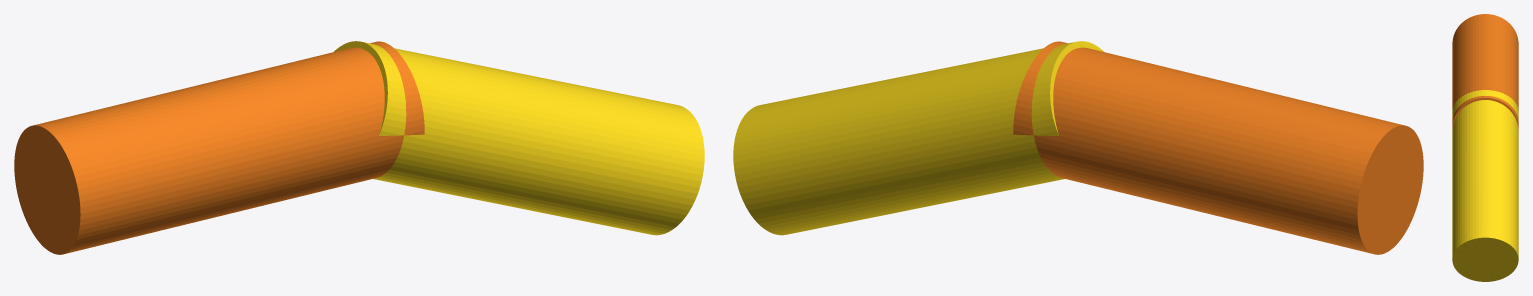
The model's file is tinker.obj.
The picture shows the model from 3 angles, left to right: view 1: azimuth 30°, elevation 25°; view 2: azimuth 150°, elevation 25°; view 3: azimuth 270°, elevation 25°; orthographic projection. The views are drawn at different scales.
Visible parts, largest first — view 1: group_0_16089887, group_0_16768282; view 2: group_0_16089887, group_0_16768282; view 3: group_0_16768282, group_0_16089887.
Boxes of the visible parts, x1,y1,x2,y2 form: group_0_16089887: (14,41,424,254); group_0_16768282: (334,41,704,235); group_0_16089887: (1013,41,1423,254); group_0_16768282: (733,41,1103,235); group_0_16768282: (1452,90,1518,281); group_0_16089887: (1452,14,1518,129).
Size of the model in its own units: 11.15 by 4.19 by 2.
